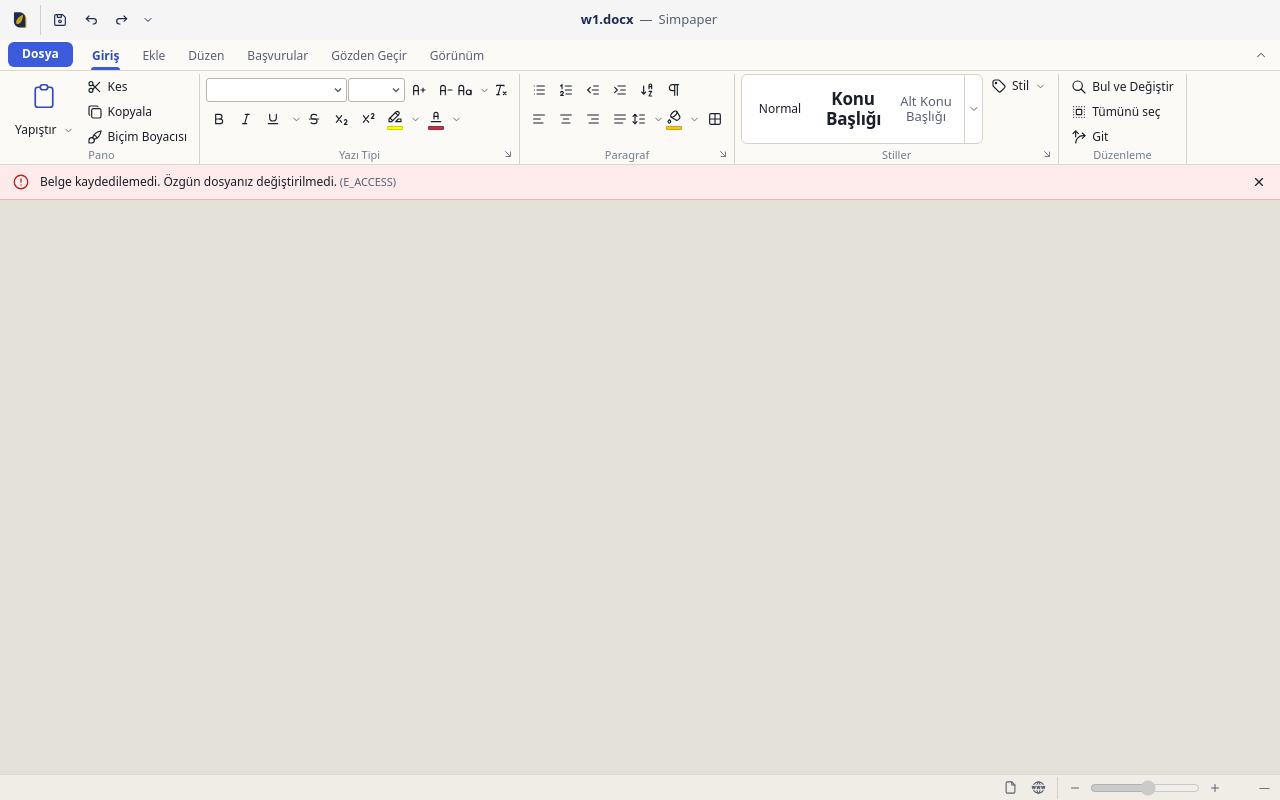
Scenario: message bars and shortcuts › shows translated errors from the main process and dismisses them
Expected: the message shows "Belge kaydedilemedi. Özgün dosyanız değiştirilmedi.", [40, 173, 337, 190]
Expected: the message shows "(E_ACCESS)", [343, 174, 393, 189]
Step 1. Click the button named "Kapat" → (1259, 182), box [1246, 169, 1272, 195]
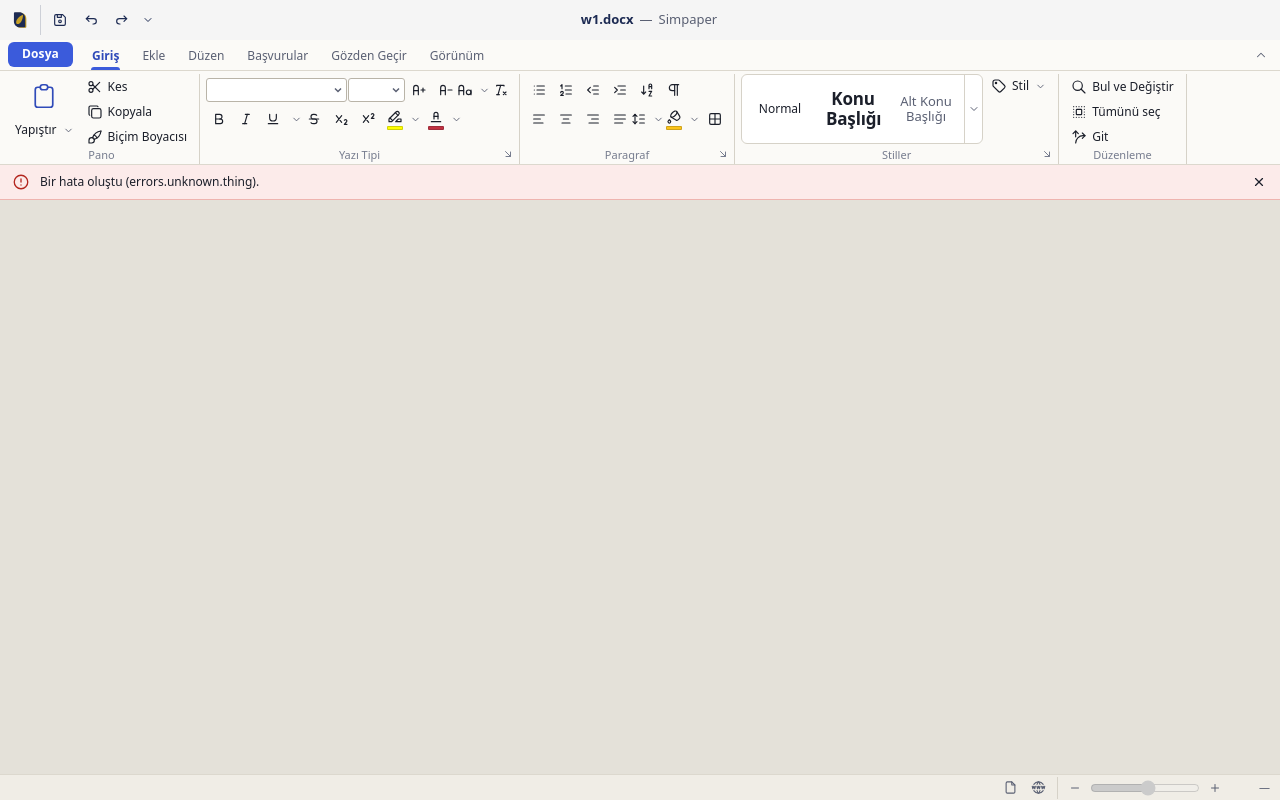
Expected: the message reads "Bir hata oluştu (errors.unknown.thing).", [40, 173, 259, 190]
